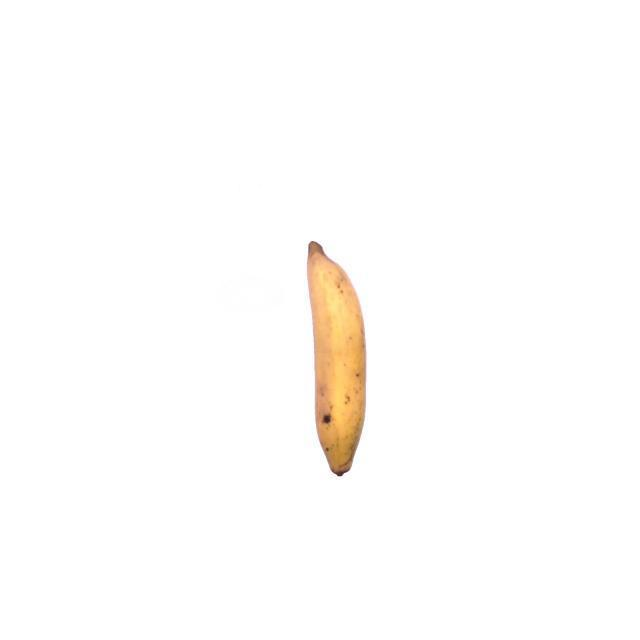Banana: (304, 236, 369, 482)
